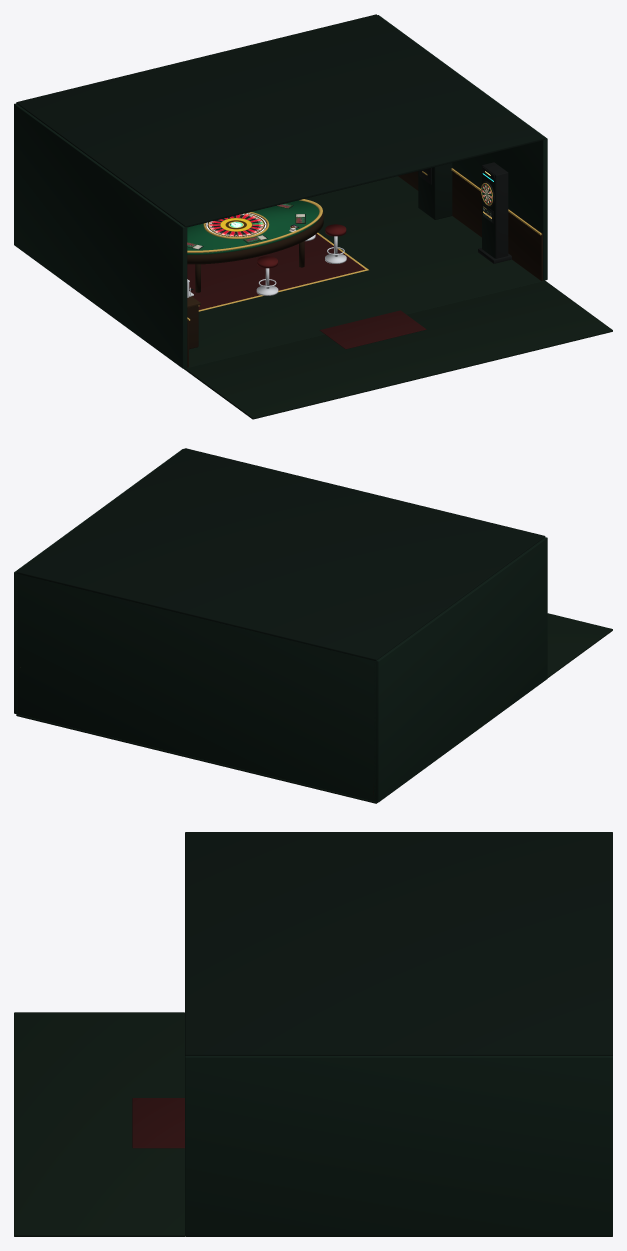
Rendered from hoobe_room.glb.
3 renders of one model, top to bottom at view 1: azimuth 30°, elevation 25°; view 2: azimuth 150°, elevation 25°; view 3: azimuth 270°, elevation 25°, orthographic. The views are drawn at different scales.
Visible parts, largest first — view 1: Ceiling, Floor, LeftWall, Foyer, Rug, RightWall, RightWainscot, RouletteTop, FoyerMat, ChangeBody, RouletteApron, DartBody (+2 smaller); view 2: Ceiling, BackWall, LeftWall, Foyer, Floor, RightWall; view 3: Ceiling, RightWall, Foyer, FoyerMat.
Part boxes in pixels (x1,y1,x2,y2): Ceiling: (16,14,545,227); Floor: (183,176,544,369); LeftWall: (14,103,187,368); Foyer: (185,280,612,419); Rug: (187,233,365,309); RightWall: (378,15,547,280); RightWainscot: (398,168,542,281); RouletteTop: (187,200,319,254); FoyerMat: (319,310,426,349); ChangeBody: (418,163,452,219); RouletteApron: (187,212,323,264); DartBody: (482,162,508,258); Ceiling: (16,448,545,660); BackWall: (16,573,375,801); LeftWall: (374,537,547,802); Foyer: (547,613,612,677); Floor: (16,714,377,803); RightWall: (14,449,183,714); Ceiling: (185,832,612,1055); RightWall: (185,1056,612,1235); Foyer: (14,1012,184,1236); FoyerMat: (132,1098,184,1148).
Size of the model in its own units: 8.1 by 3.06 by 9.1.
Materials: 82 (20 with a texture image).
